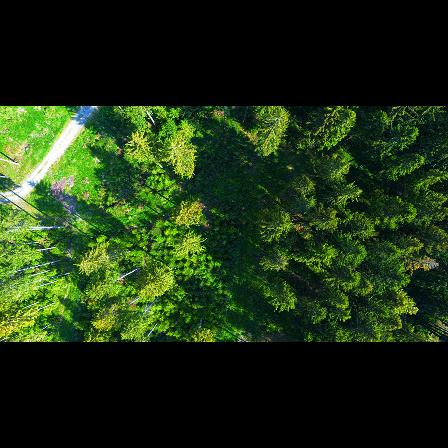Dead: (405, 253, 441, 272)
